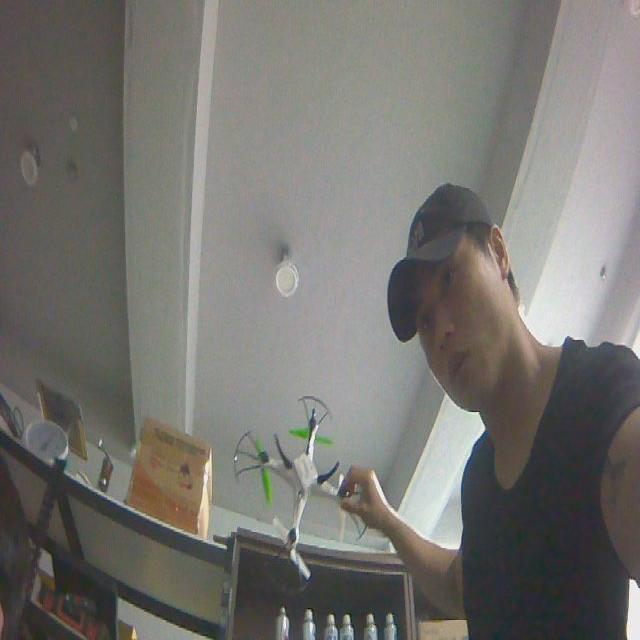drone: (232, 392, 372, 595)
